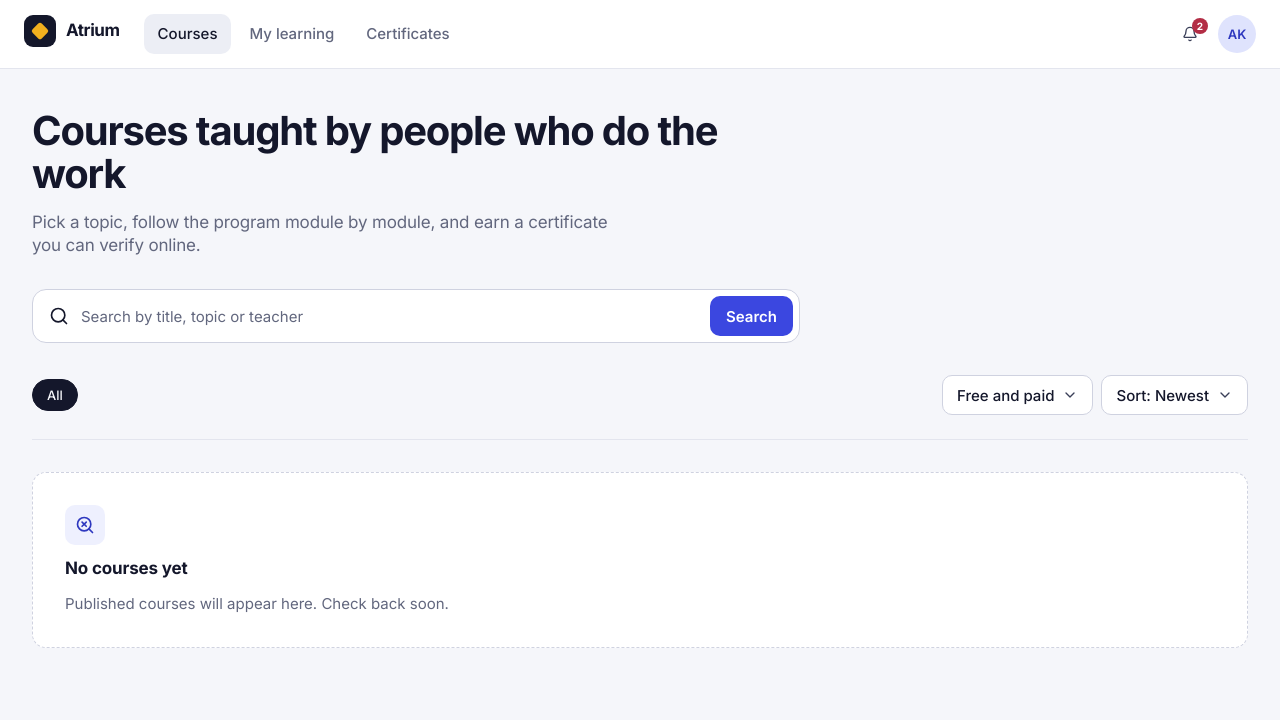
Test case: notification bell › shows the unread count and lists the latest notifications
Click the button named "Notifications, 2 unread": (1190, 34) [1170,14,1210,54]
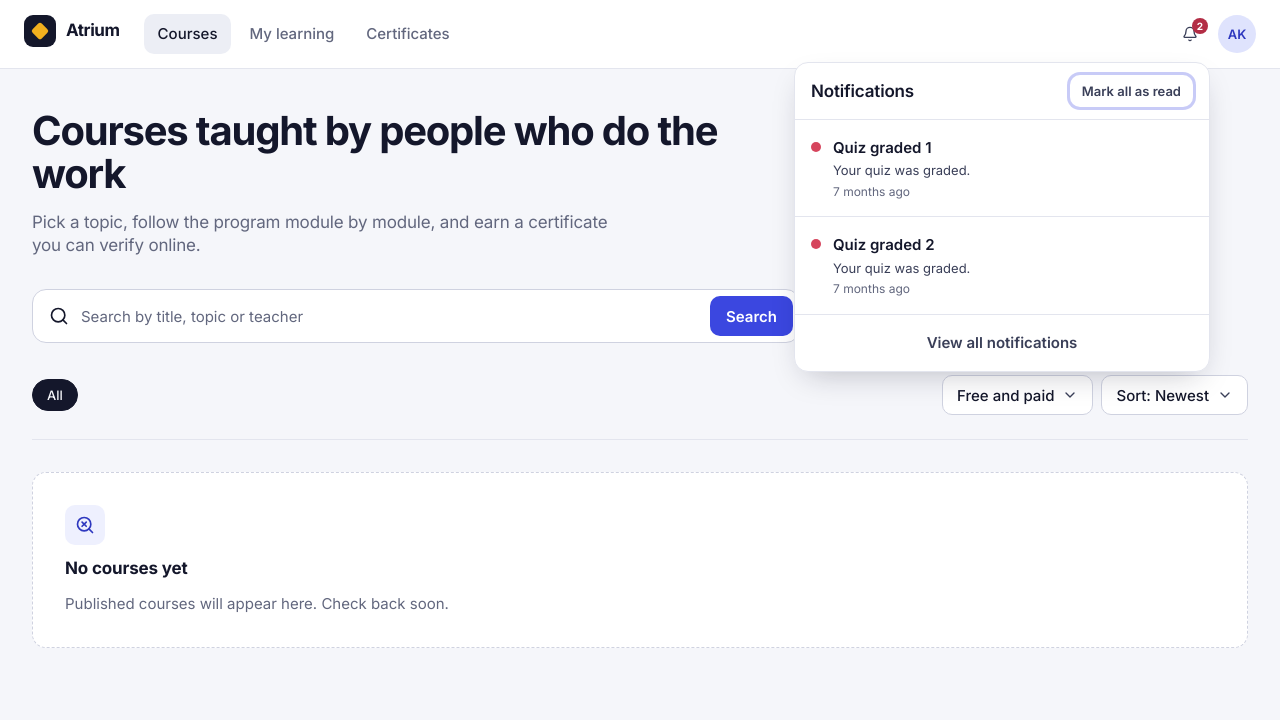
Expected: the text "Quiz graded 1" is shown, [832,137,932,157]
